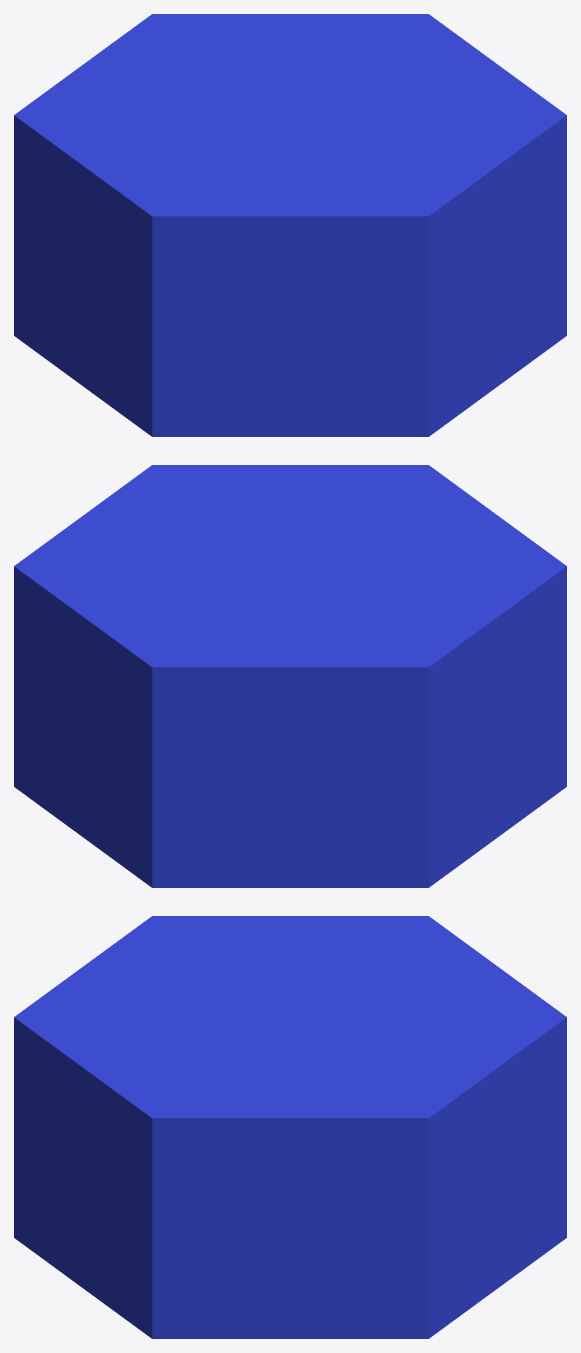
Rendered from water_v1.glb.
3 renders of one model, top to bottom at view 1: azimuth 30°, elevation 25°; view 2: azimuth 150°, elevation 25°; view 3: azimuth 270°, elevation 25°, orthographic.
Parts seen in each view (by area): view 1: Circle; view 2: Circle; view 3: Circle.
Boxes of the visible parts, x1,y1,x2,y2 form: Circle: [14, 14, 566, 436]; Circle: [14, 465, 566, 887]; Circle: [14, 916, 566, 1338].
Bounding box in the file's own units: 1.97 × 1 × 2.27.
